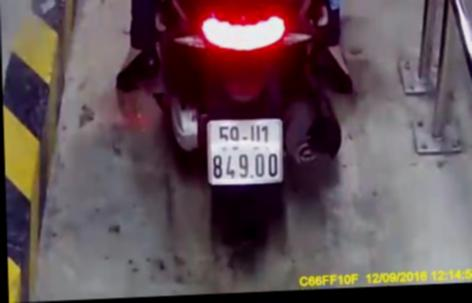License_Plate: (196, 112, 287, 188)
